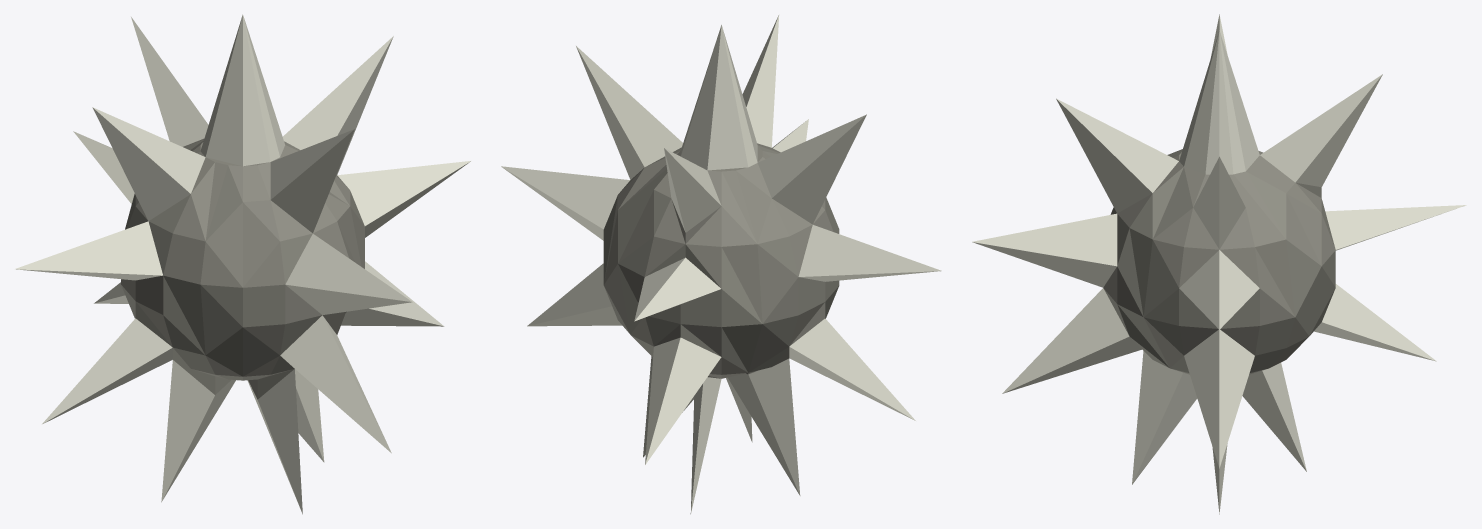
The model's file is fly_thorn.FBX.
3 renders of one model, left to right at view 1: azimuth 30°, elevation 25°; view 2: azimuth 150°, elevation 25°; view 3: azimuth 270°, elevation 25°, orthographic. The views are drawn at different scales.
Visible parts, largest first — view 1: Sphere001; view 2: Sphere001; view 3: Sphere001.
Boxes of the visible parts, box(x1,y1,x2,y2) form: Sphere001: box(15, 14, 470, 514); Sphere001: box(501, 14, 941, 514); Sphere001: box(972, 14, 1466, 514).
Bounding box in the file's own units: 29.66 × 29.15 × 29.23.
1 material, 1 textured.
